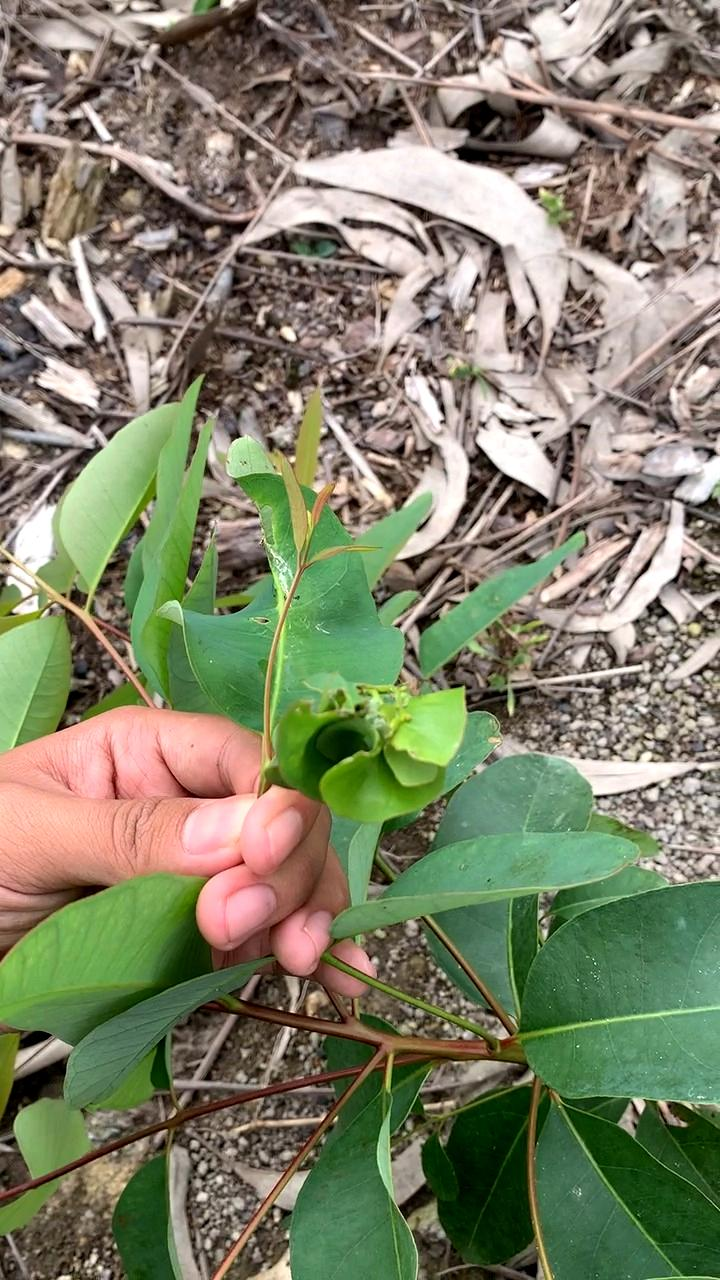Leaf Roller - Leaf: (261, 656, 478, 838)
